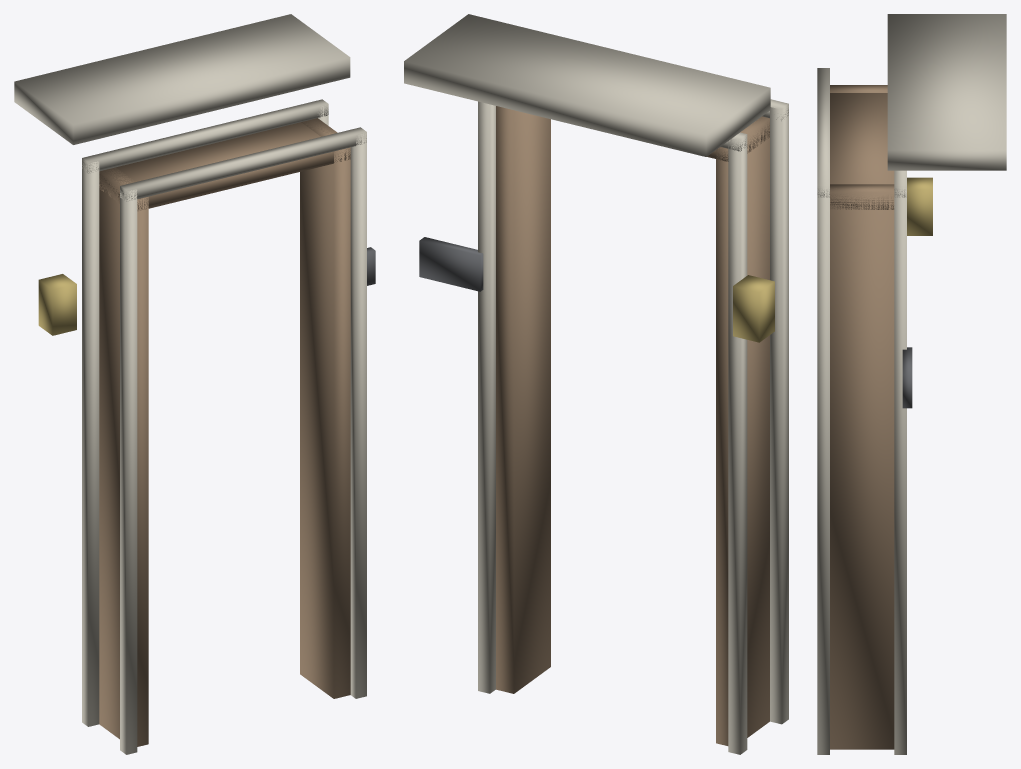
Rendered from doorway_motel_w76_h210_d24.glb.
3 renders of one model, left to right at view 1: azimuth 30°, elevation 25°; view 2: azimuth 150°, elevation 25°; view 3: azimuth 270°, elevation 25°, orthographic. The views are drawn at different scales.
Visible parts, largest first — view 1: world; view 2: world; view 3: world.
Boxes of the visible parts, <box> form: world: <box>14,14,375,754</box>; world: <box>404,14,788,754</box>; world: <box>817,14,1006,754</box>.
Size of the model in its own units: 1.32 by 2.39 by 0.6682.
